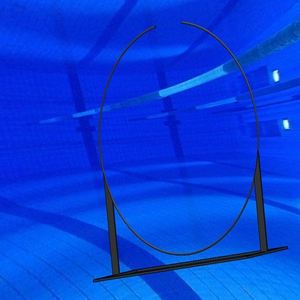circle: (92, 20, 289, 284)
